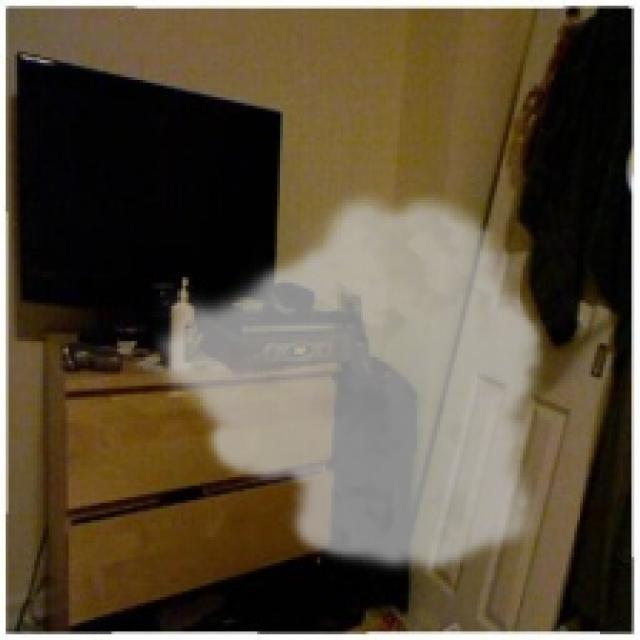Smoke: (148, 182, 548, 578)
